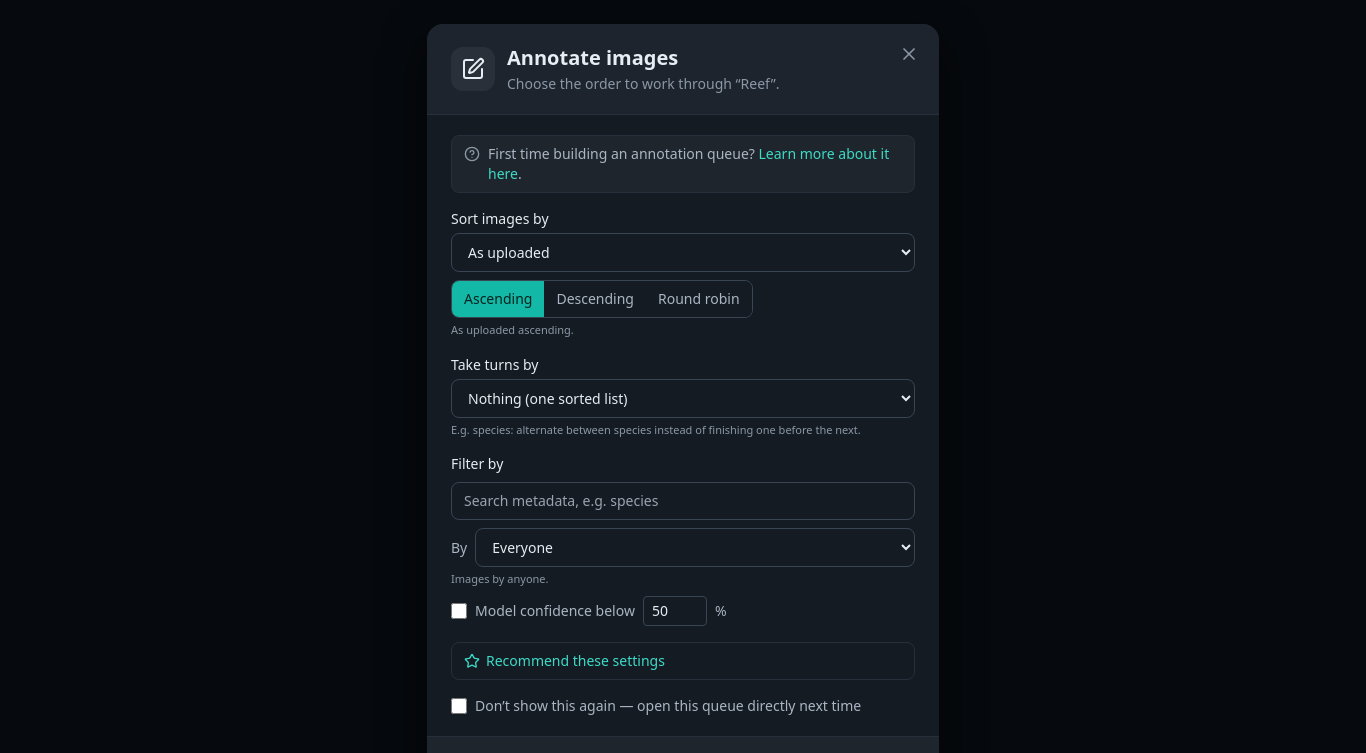
it: a curator saves the current settings as the recommendation
Select "Density" in the dropdown labelled "Sort images by" at [683, 252], box [451,233,915,272]
(page scrolled)
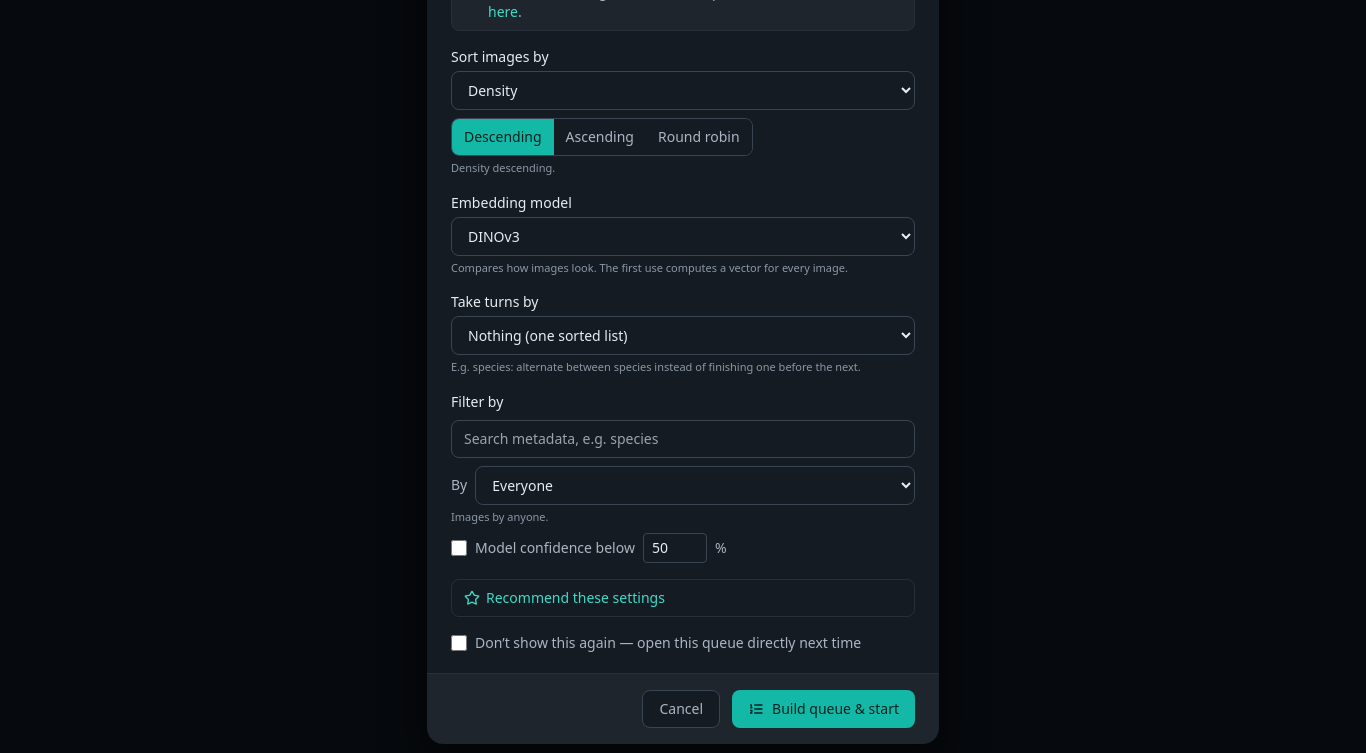
Click the button "Recommend these settings" at [564, 598], box [464,588,665,608]
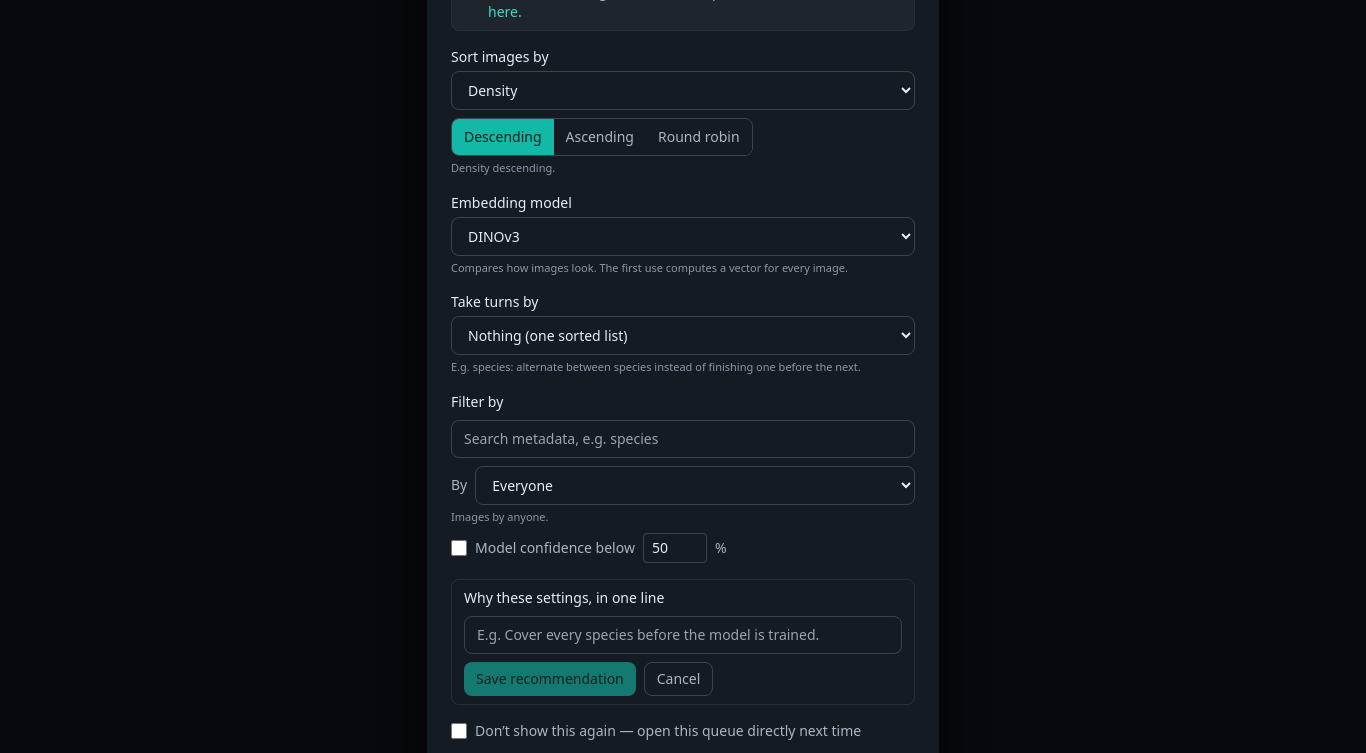
Type " Typical first. " into the field labelled "Why these settings, in one line" at [683, 635], box [464,616,902,654]
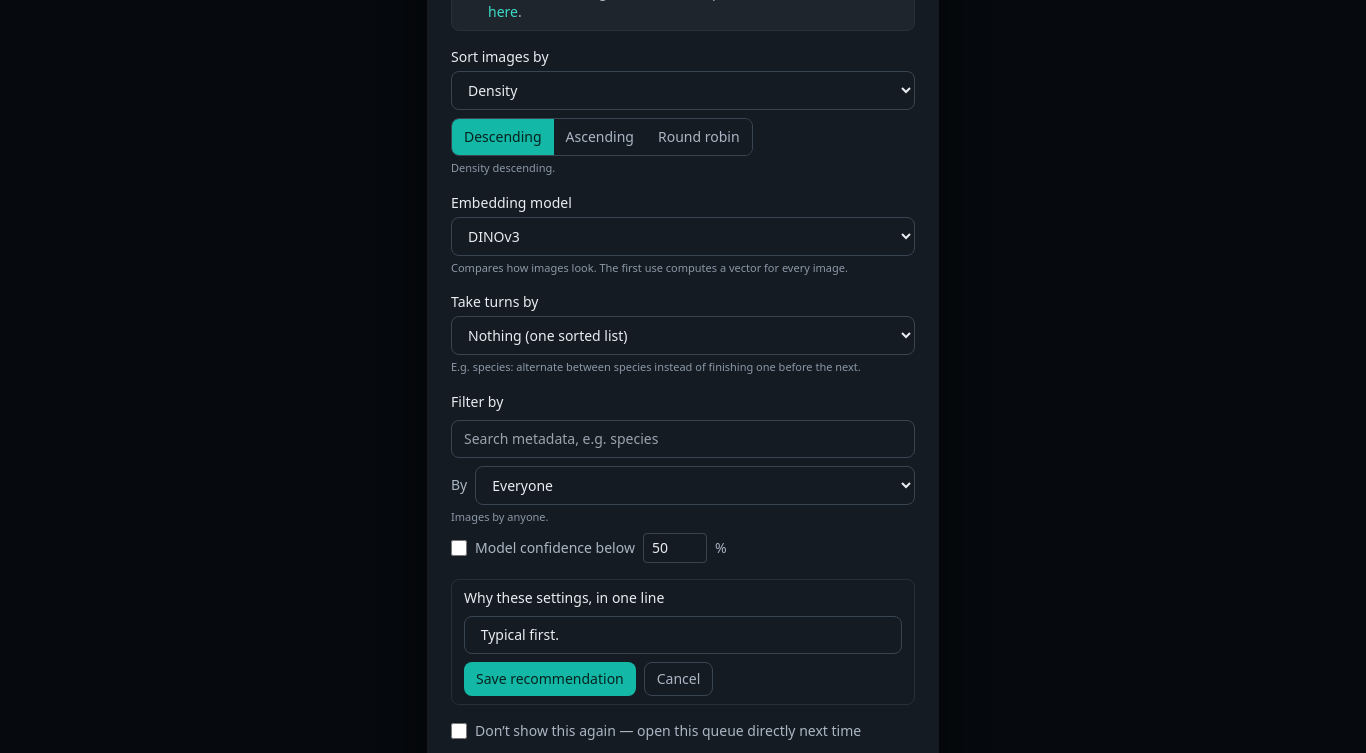
Click the button "Save recommendation" at [550, 679], box [464,662,636,696]
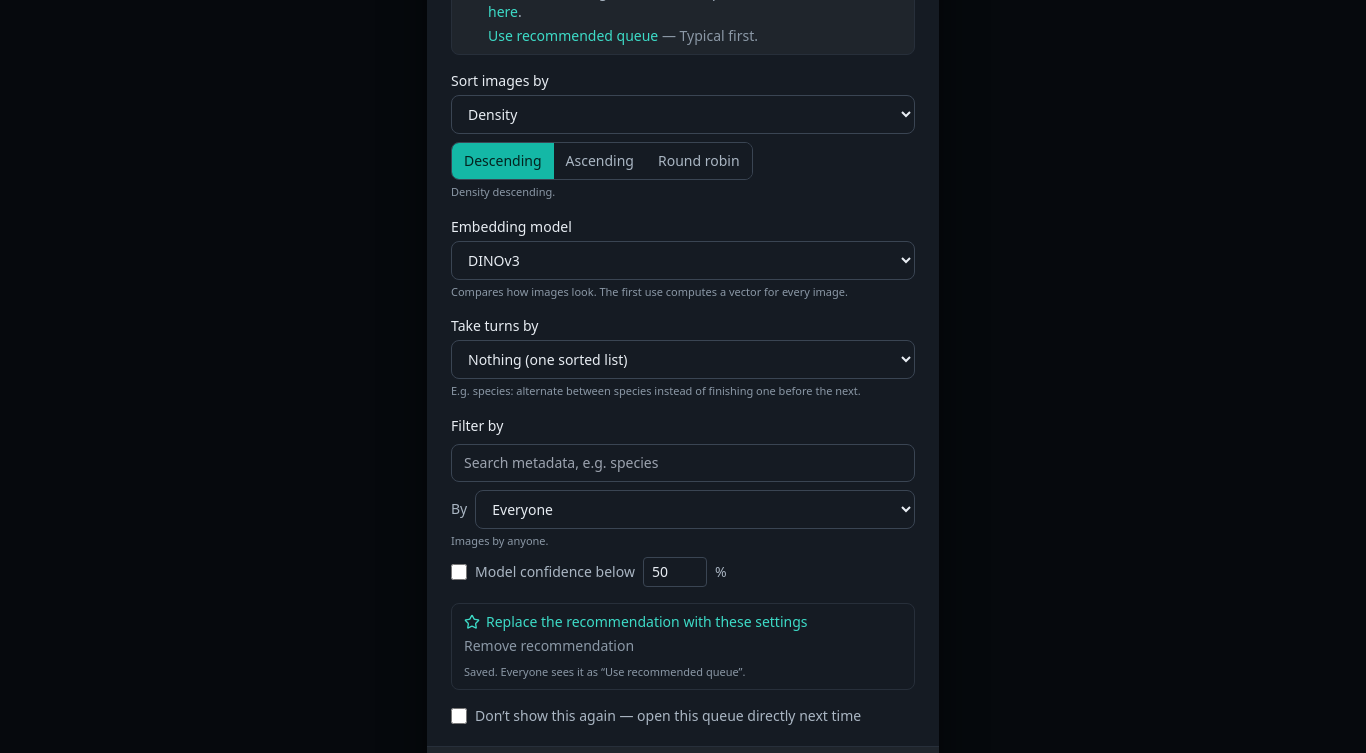
expect the button "Use recommended queue" is shown: met, box [488,26,658,46]
